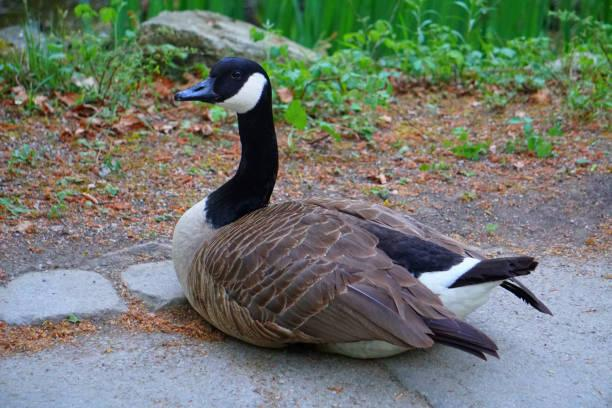Canadian-Goose: (168, 58, 544, 362)
